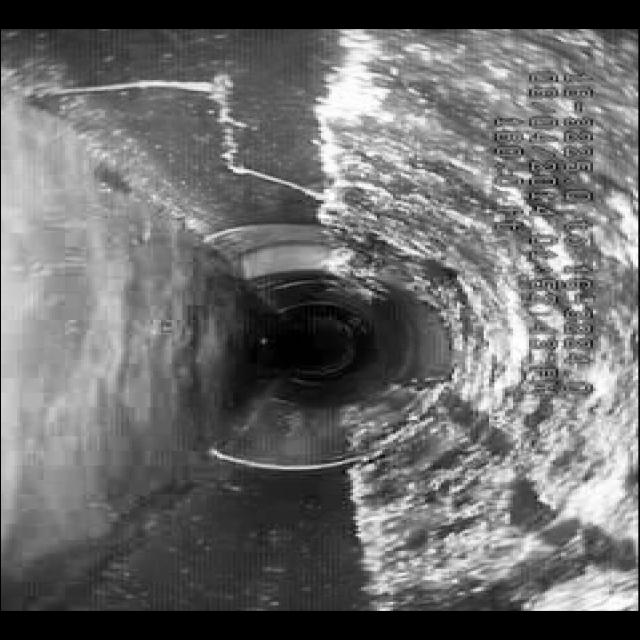Crack: (100, 65, 316, 200)
